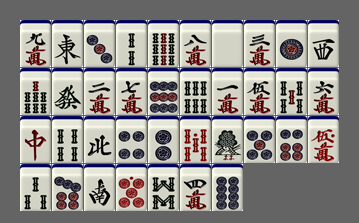0m: (308, 116, 339, 163)
0p: (116, 164, 147, 211)
0s: (180, 116, 211, 163)
1m: (212, 68, 243, 115)
1p: (276, 20, 307, 67)
1s: (212, 116, 243, 163)
1z: (52, 20, 83, 67)
2m: (84, 68, 115, 115)
2p: (148, 116, 179, 163)
2s: (116, 20, 147, 67)
2z: (84, 164, 115, 211)
3m: (244, 20, 275, 67)
3p: (84, 20, 115, 67)
3s: (20, 164, 51, 211)
3z: (308, 20, 339, 67)
4m: (180, 164, 211, 211)
4p: (116, 116, 147, 163)
4s: (52, 116, 83, 163)
4z: (84, 116, 115, 163)
5m: (244, 68, 275, 115)
5p: (244, 116, 275, 163)
5s: (276, 68, 307, 115)
5z: (212, 20, 243, 67)
6m: (308, 68, 339, 115)
6p: (276, 116, 307, 163)
6s: (180, 68, 211, 115)
6z: (52, 68, 83, 115)
7m: (116, 68, 147, 115)
7p: (52, 164, 83, 211)
7s: (20, 68, 51, 115)
7z: (20, 116, 51, 163)
8m: (180, 20, 211, 67)
8p: (212, 164, 243, 211)
8s: (148, 164, 179, 211)
9m: (20, 20, 51, 67)
9p: (148, 68, 179, 115)
9s: (148, 20, 179, 67)
